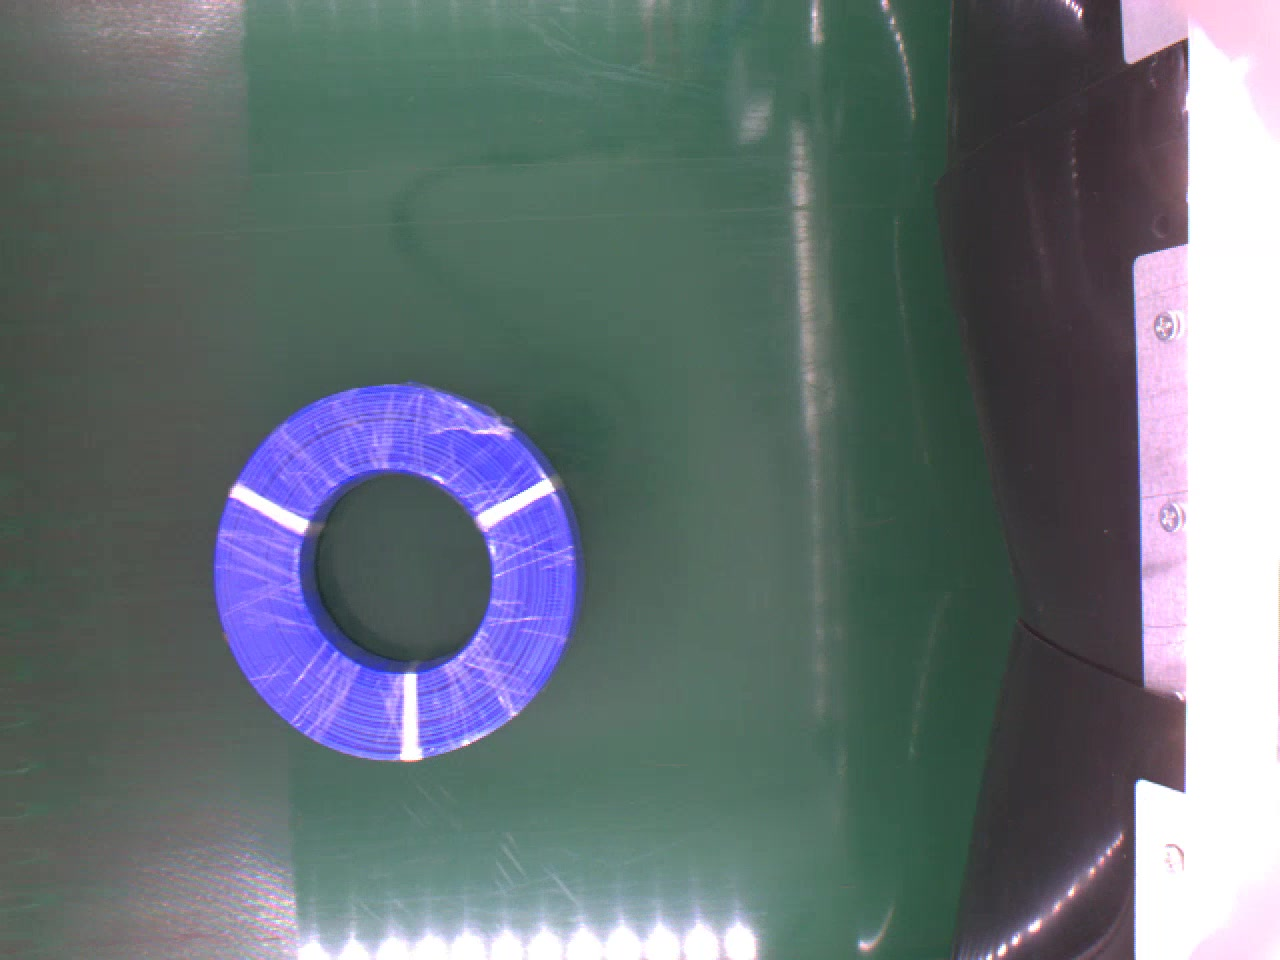blue: (213, 378, 580, 763)
